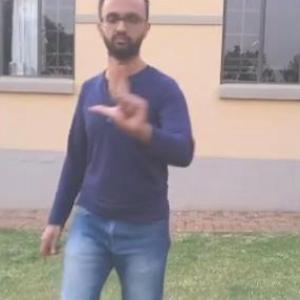land_hand: (84, 61, 155, 134)
